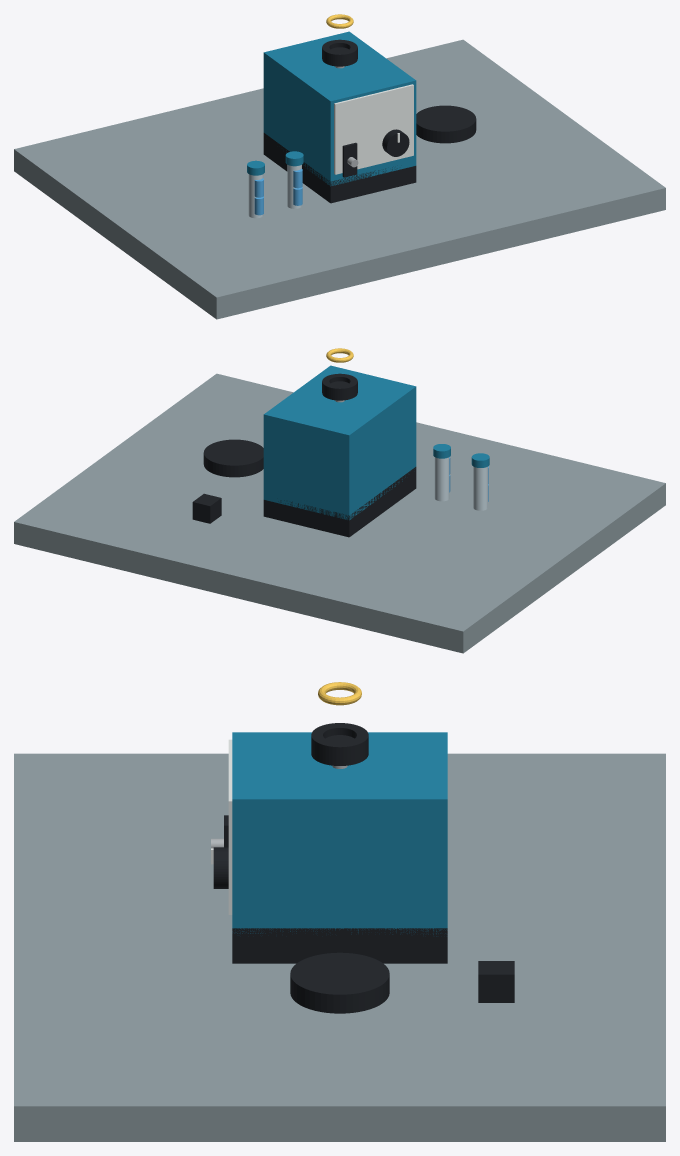
Rendered from vortex19.glb.
3 renders of one model, top to bottom at view 1: azimuth 30°, elevation 25°; view 2: azimuth 150°, elevation 25°; view 3: azimuth 270°, elevation 25°, orthographic. The views are drawn at different scales.
Visible parts, largest first — view 1: environment.bench, machine.housing, controls.panel, machine.base, head.platform.rubber, head.cup, head.platform, controls.speed; view 2: environment.bench, machine.housing, machine.base, head.platform.rubber, head.cup, power.plug, tube.body.SYN-19-B, tube.body.SYN-19-A, head.platform; view 3: environment.bench, machine.housing, machine.base, head.platform.rubber, head.cup, power.plug, head.platform, controls.panel, teaching.handgrip, controls.speed.
Part boxes in pixels (bbox=[...]): environment.bench: bbox=[14, 39, 665, 319]; machine.housing: bbox=[263, 31, 416, 186]; controls.panel: bbox=[334, 84, 413, 174]; machine.base: bbox=[263, 133, 416, 203]; head.platform.rubber: bbox=[416, 105, 476, 134]; head.cup: bbox=[322, 39, 357, 66]; head.platform: bbox=[416, 122, 476, 143]; controls.speed: bbox=[382, 129, 409, 156]; environment.bench: bbox=[14, 373, 665, 653]; machine.housing: bbox=[263, 365, 416, 520]; machine.base: bbox=[263, 467, 416, 537]; head.platform.rubber: bbox=[203, 439, 263, 468]; head.cup: bbox=[322, 373, 357, 400]; power.plug: bbox=[192, 493, 221, 523]; tube.body.SYN-19-B: bbox=[434, 457, 449, 501]; tube.body.SYN-19-A: bbox=[473, 466, 487, 510]; head.platform: bbox=[203, 456, 263, 477]; environment.bench: bbox=[14, 753, 665, 1141]; machine.housing: bbox=[232, 732, 447, 936]; machine.base: bbox=[232, 928, 447, 963]; head.platform.rubber: bbox=[290, 952, 389, 999]; head.cup: bbox=[311, 723, 368, 765]; power.plug: bbox=[478, 961, 514, 1002]; head.platform: bbox=[290, 980, 389, 1013]; controls.panel: bbox=[228, 739, 232, 914]; teaching.handgrip: bbox=[318, 682, 361, 705]; controls.speed: bbox=[213, 847, 228, 888].
Bounding box in the file's own units: 0.64 × 0.233 × 0.5.
